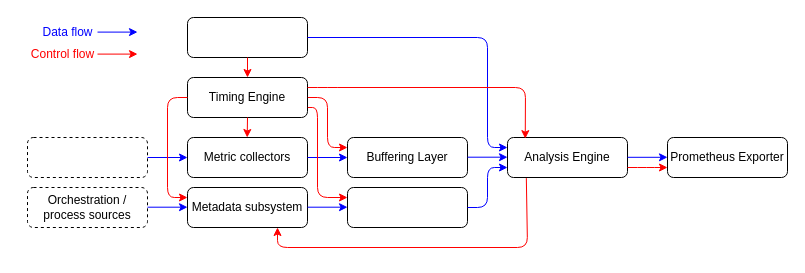
The diagram is 805 pixels wide and 273 high, and some of its shapes have lost their labels. Here are the shapes that lost their labels. From the top down, the centre of each, then its label:
pixel 247 37: Calibration
pixel 87 157: Metric sources
pixel 407 207: Caching Layer
